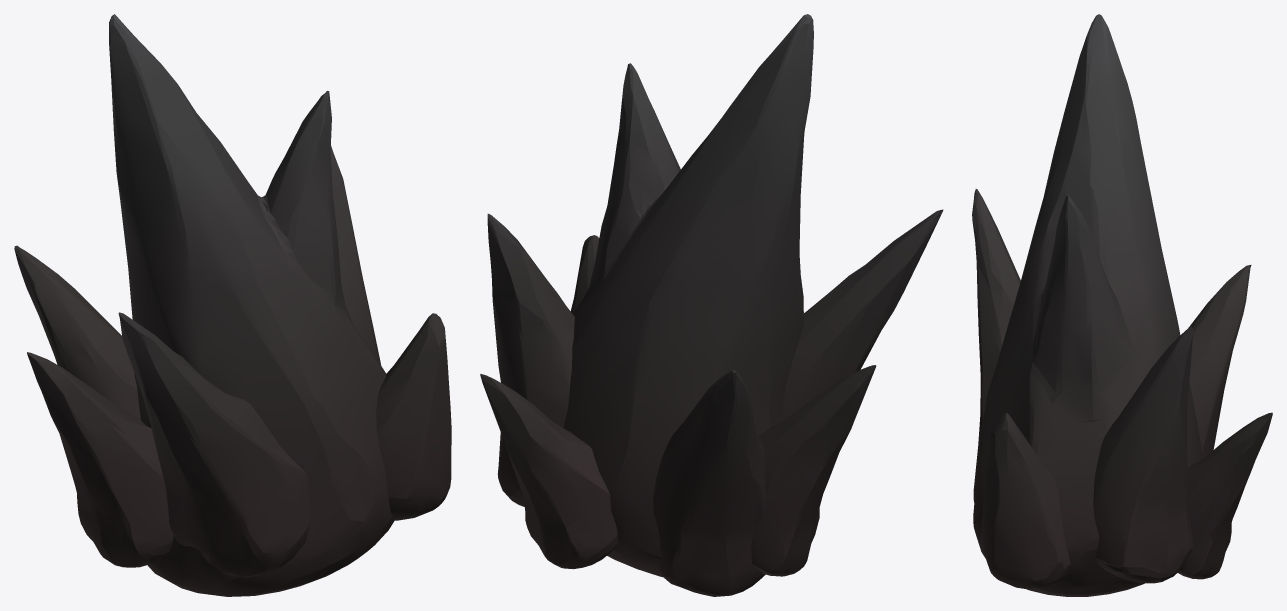
File: inferno-crag-003.glb
3 renders of one model, left to right at view 1: azimuth 30°, elevation 25°; view 2: azimuth 150°, elevation 25°; view 3: azimuth 270°, elevation 25°, orthographic. The views are drawn at different scales.
Visible parts, largest first — view 1: Crag_003; view 2: Crag_003; view 3: Crag_003.
Part boxes in pixels (x1,y1,x2,y2): Crag_003: [14, 14, 451, 596]; Crag_003: [480, 14, 943, 596]; Crag_003: [972, 14, 1272, 596].
Bounding box in the file's own units: 17.65 × 26.46 × 14.18.
1 material, 1 textured.
